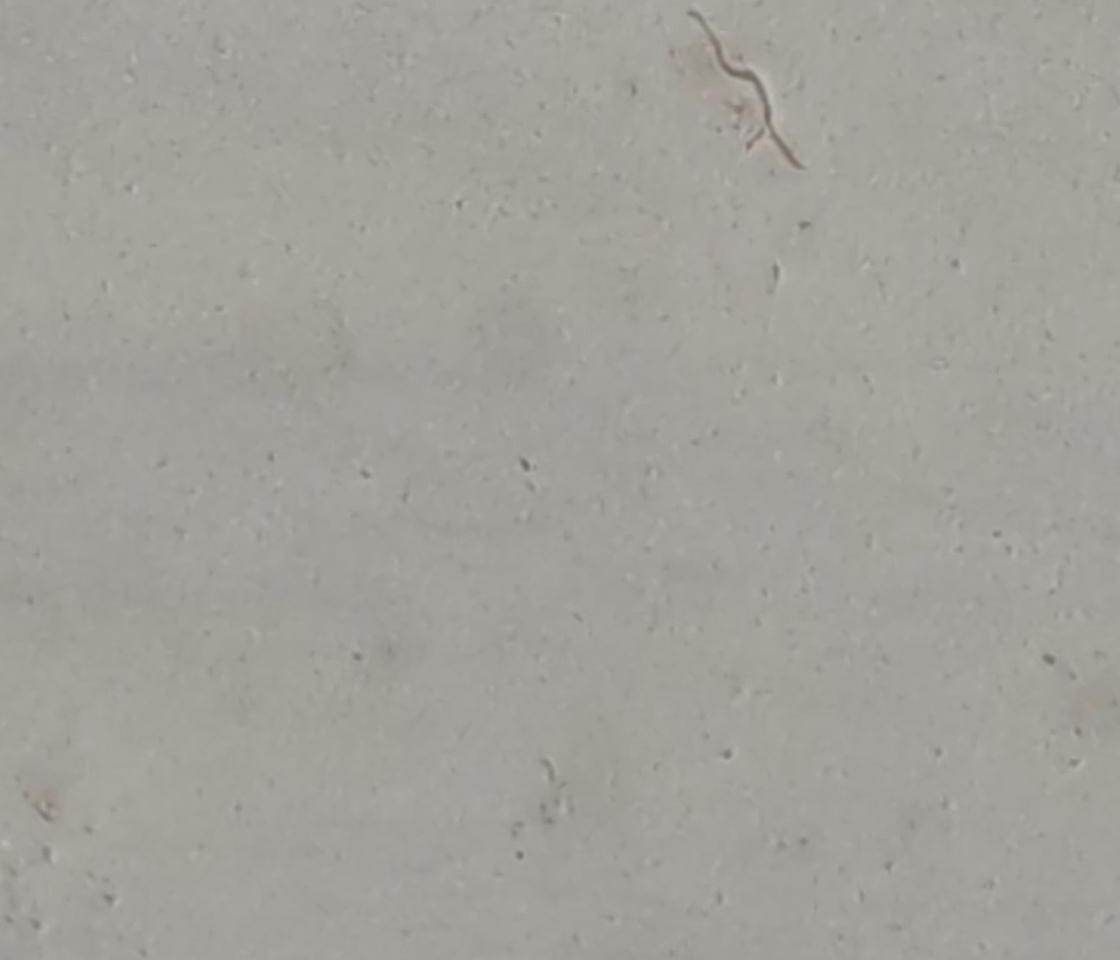scratch: (678, 5, 812, 174)
